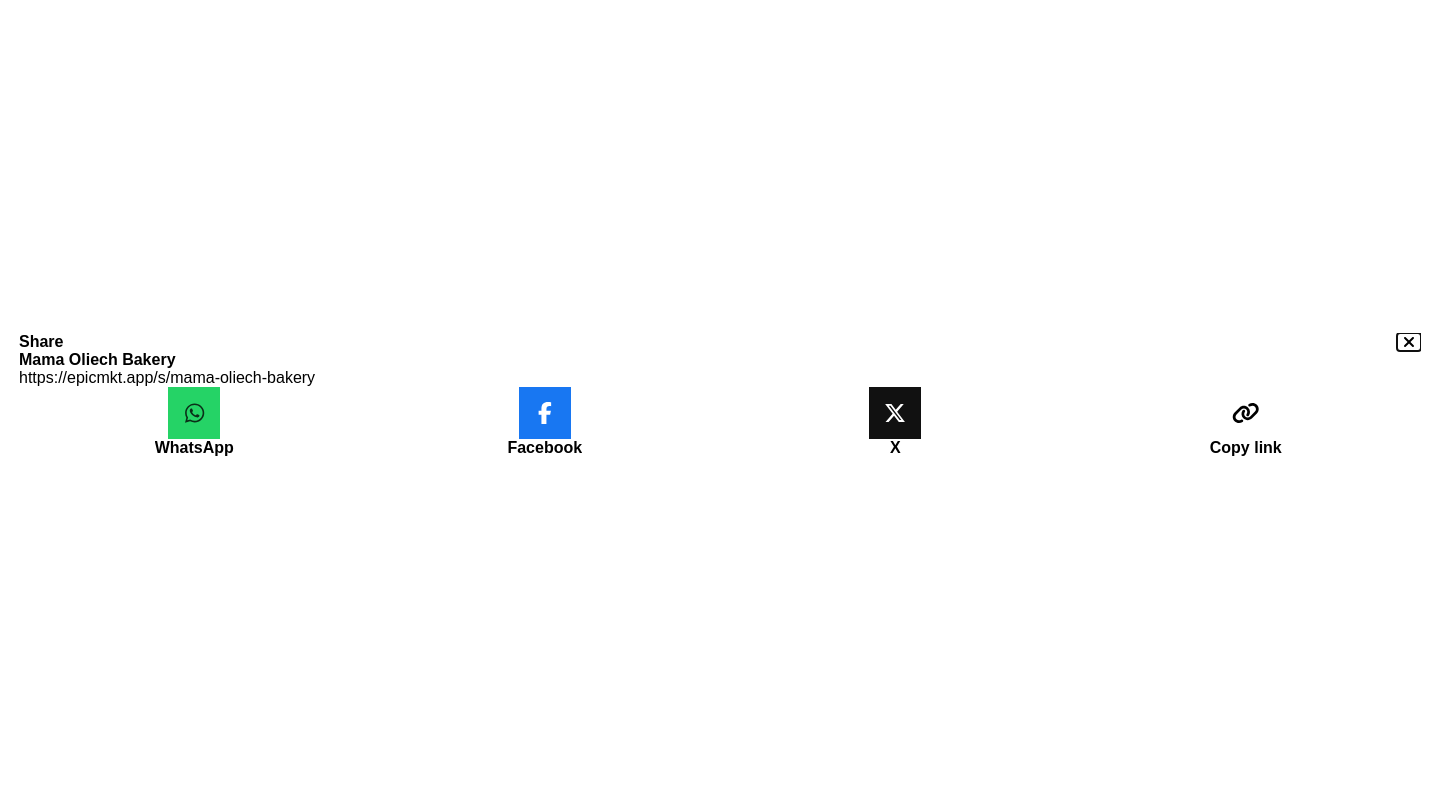
it: ShareSheet › says when copying fails
Step 1. Click the button "Copy link" → (1246, 422), box [1070, 387, 1421, 457]
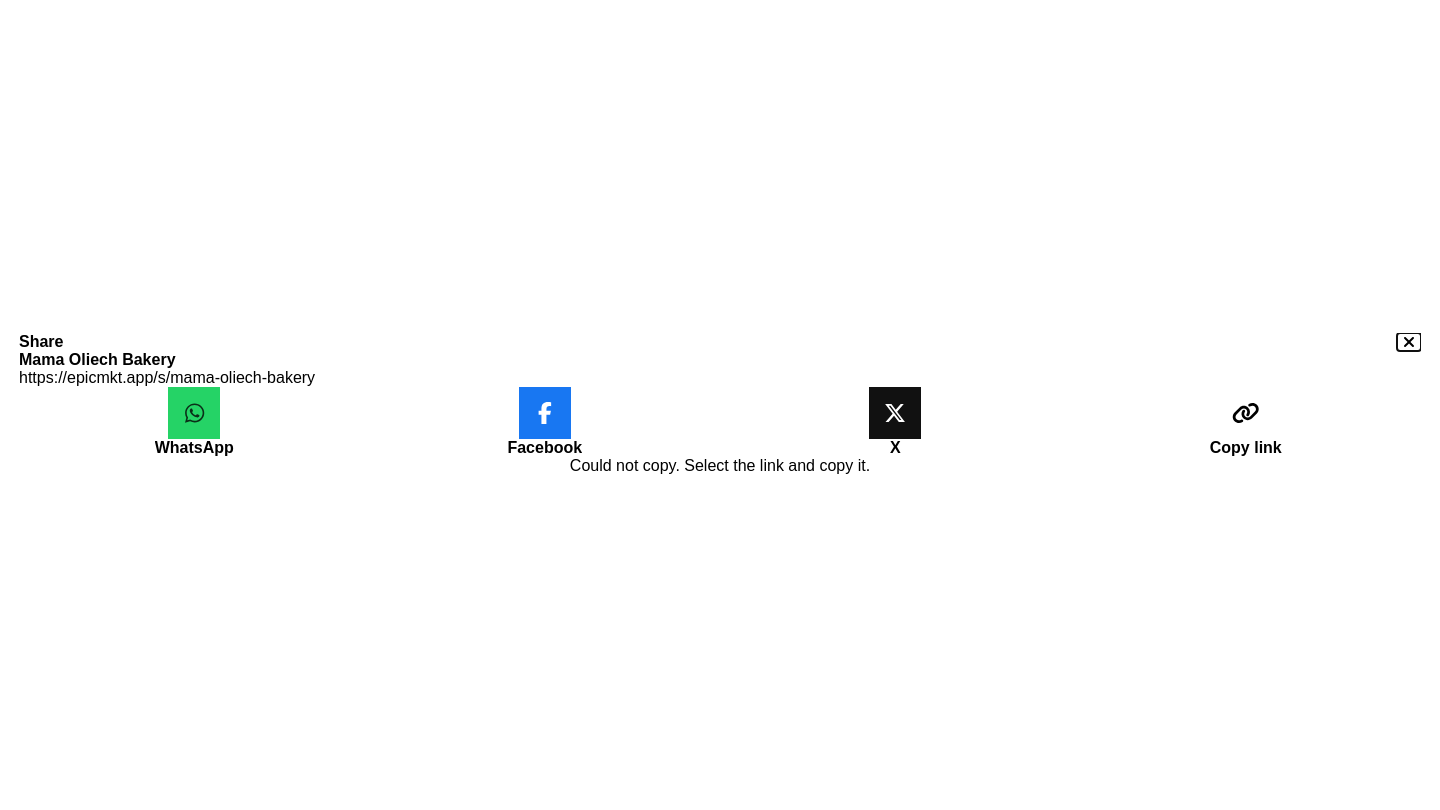
Expected: the message shows "Could not copy", [570, 457, 870, 474]
